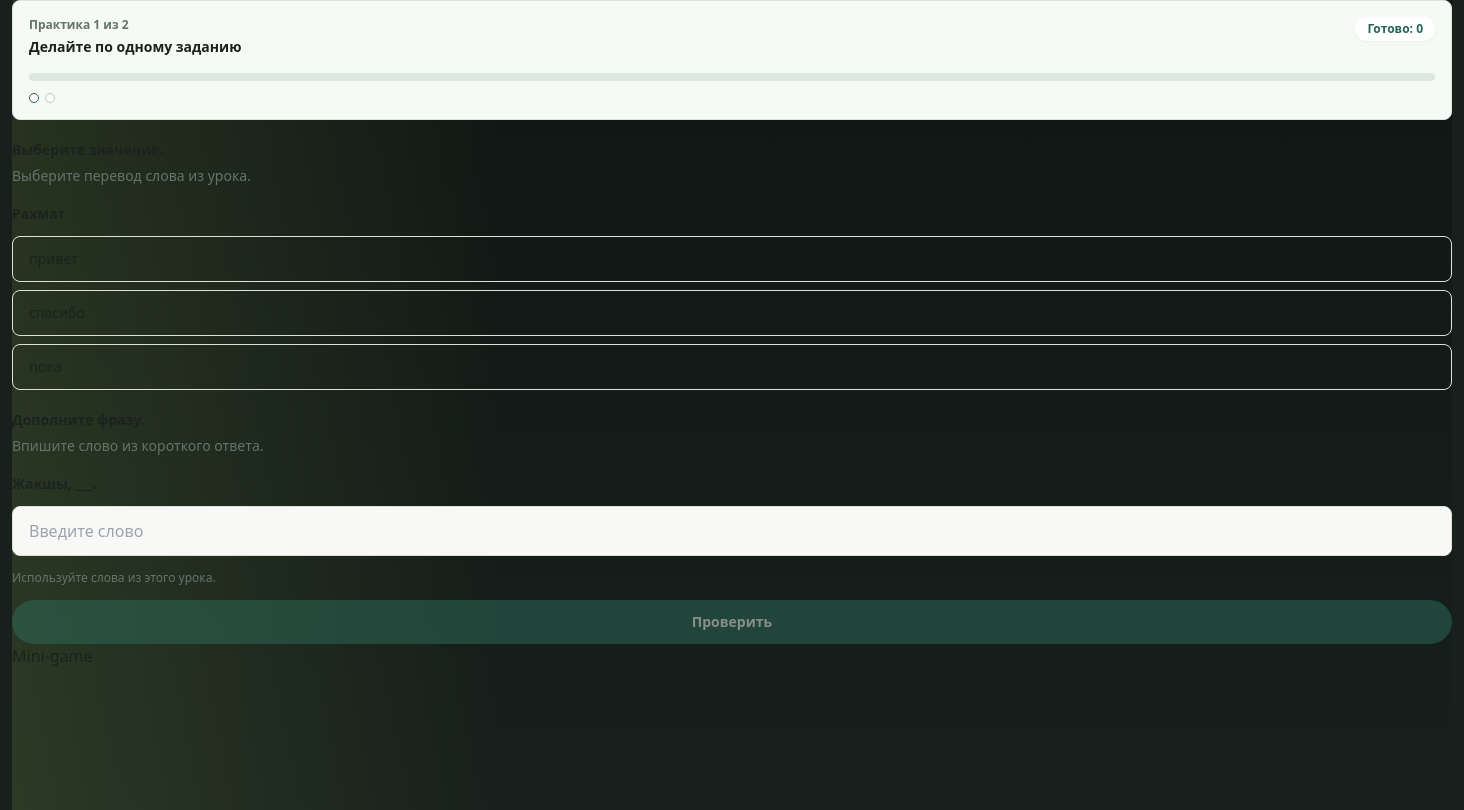
PracticeSection › updates progress after completing one exercise item
The width and height of the screenshot is (1464, 810).
Click the button "спасибо".
click(57, 312)  # box [12, 290, 1452, 336]
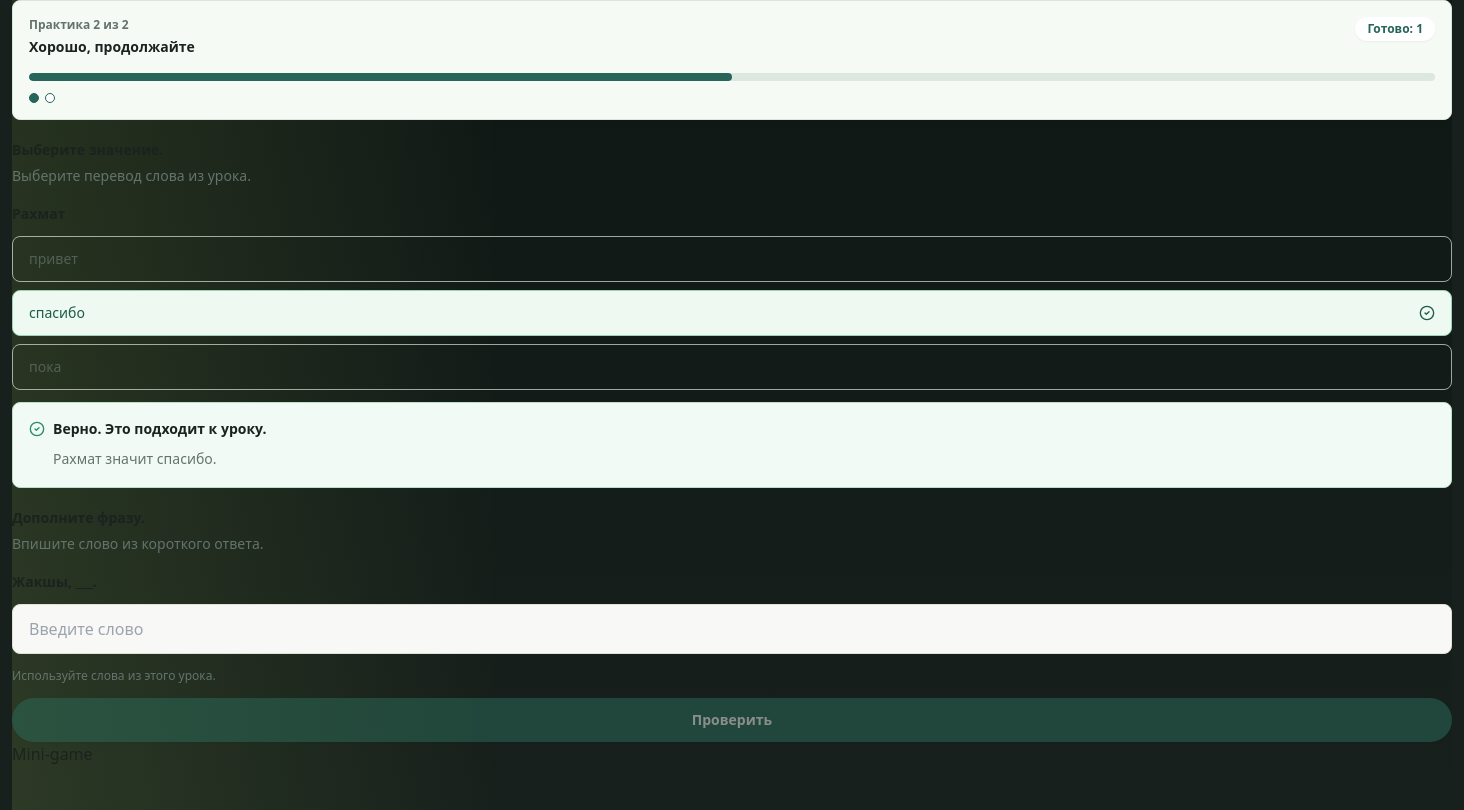
Expected: the element with test id "practice-progress" shows "Практика 2 из 2", [29, 16, 129, 33]
Expected: the element with test id "practice-progress" shows "Готово: 1", [12, 0, 1452, 120]
